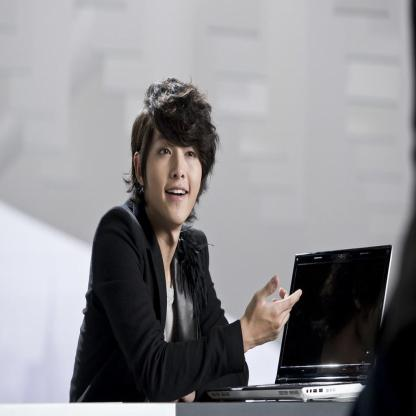board: (208, 245, 393, 400)
